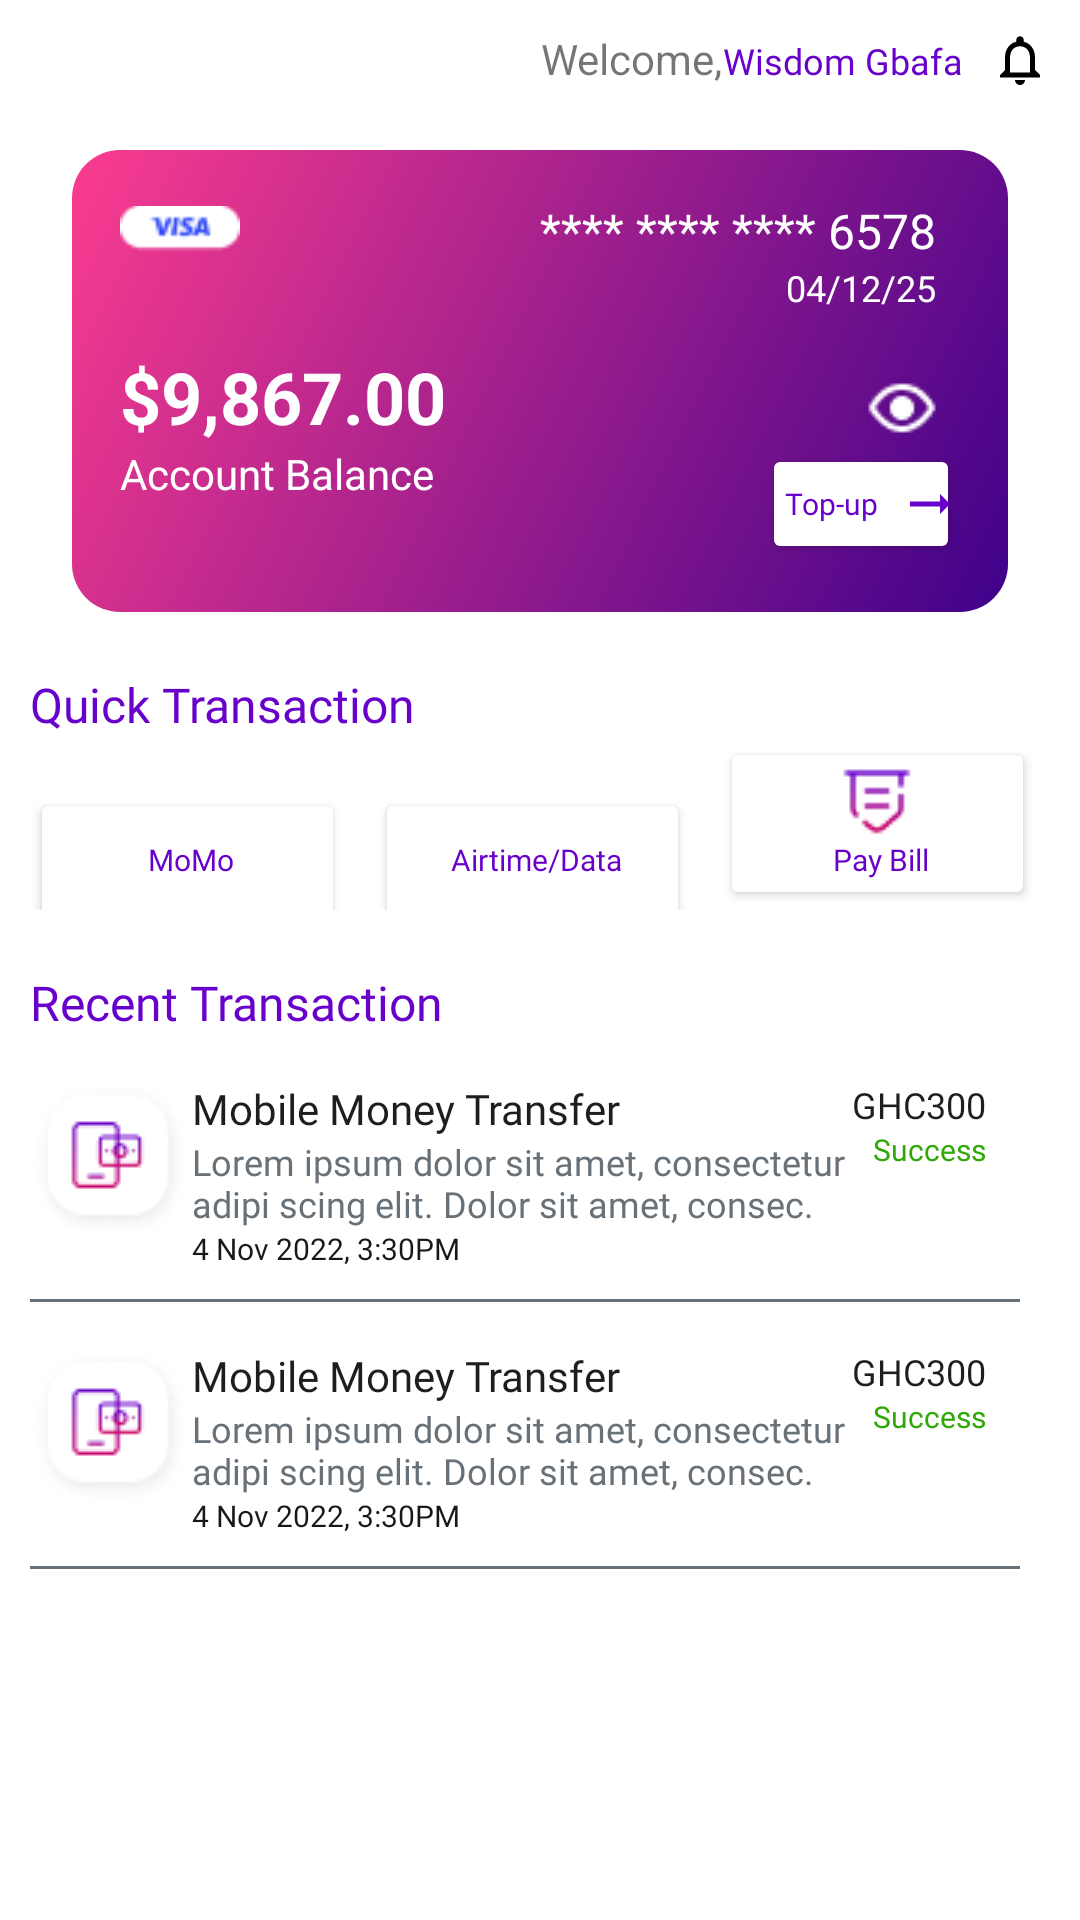

Icon bounding boxes for this 1080 × 1920 phone screenshot, format detection(x1, y1, x2, y2):
momo transfer: detection(71, 1121, 143, 1189), detection(71, 1388, 143, 1456)
notifications none: detection(1000, 36, 1040, 85)
wallet eye: detection(868, 383, 936, 433)
